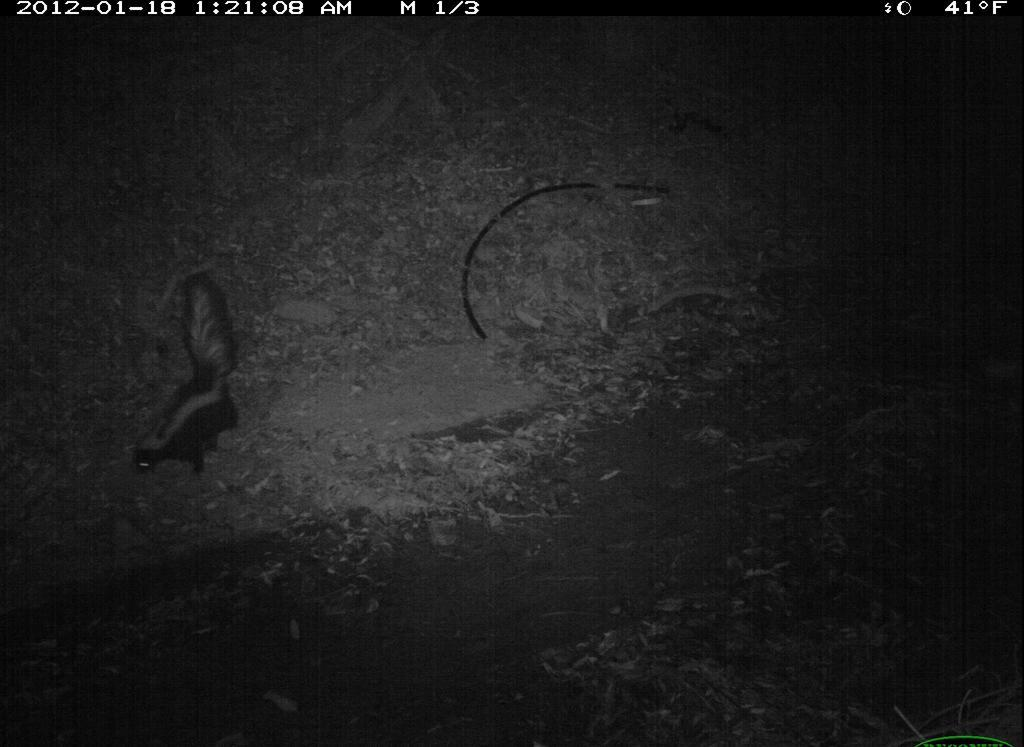skunk: (118, 257, 265, 493)
